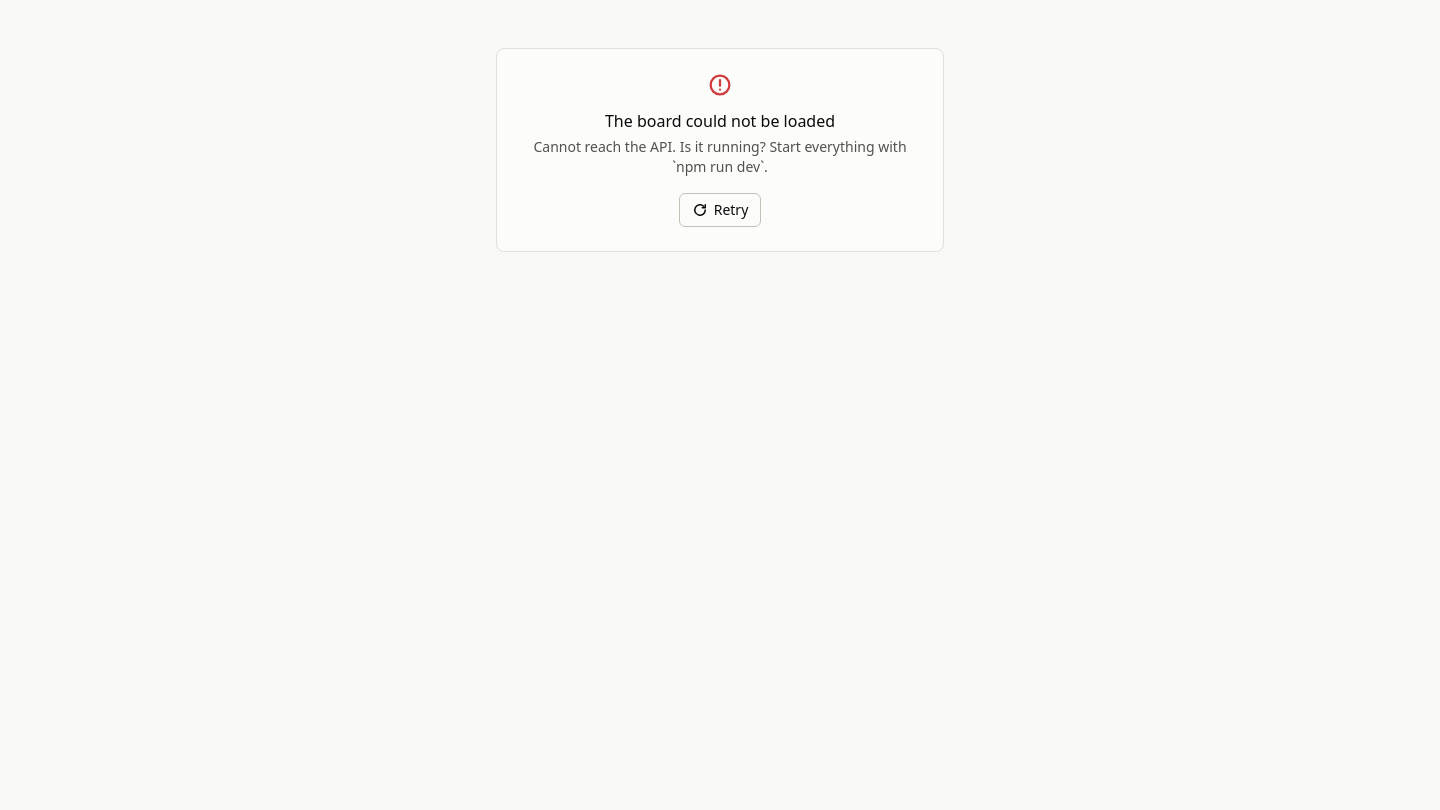
Test case: <TaskBoard /> › shows an error with Retry, and recovers
This screenshot has width=1440, height=810.
expect the message shows "The board could not be loaded": met, box [605,110,835,132]
expect the message shows "Cannot reach the API": met, box [533,137,906,176]
Click the button "Retry": (720, 210) [679,193,761,227]
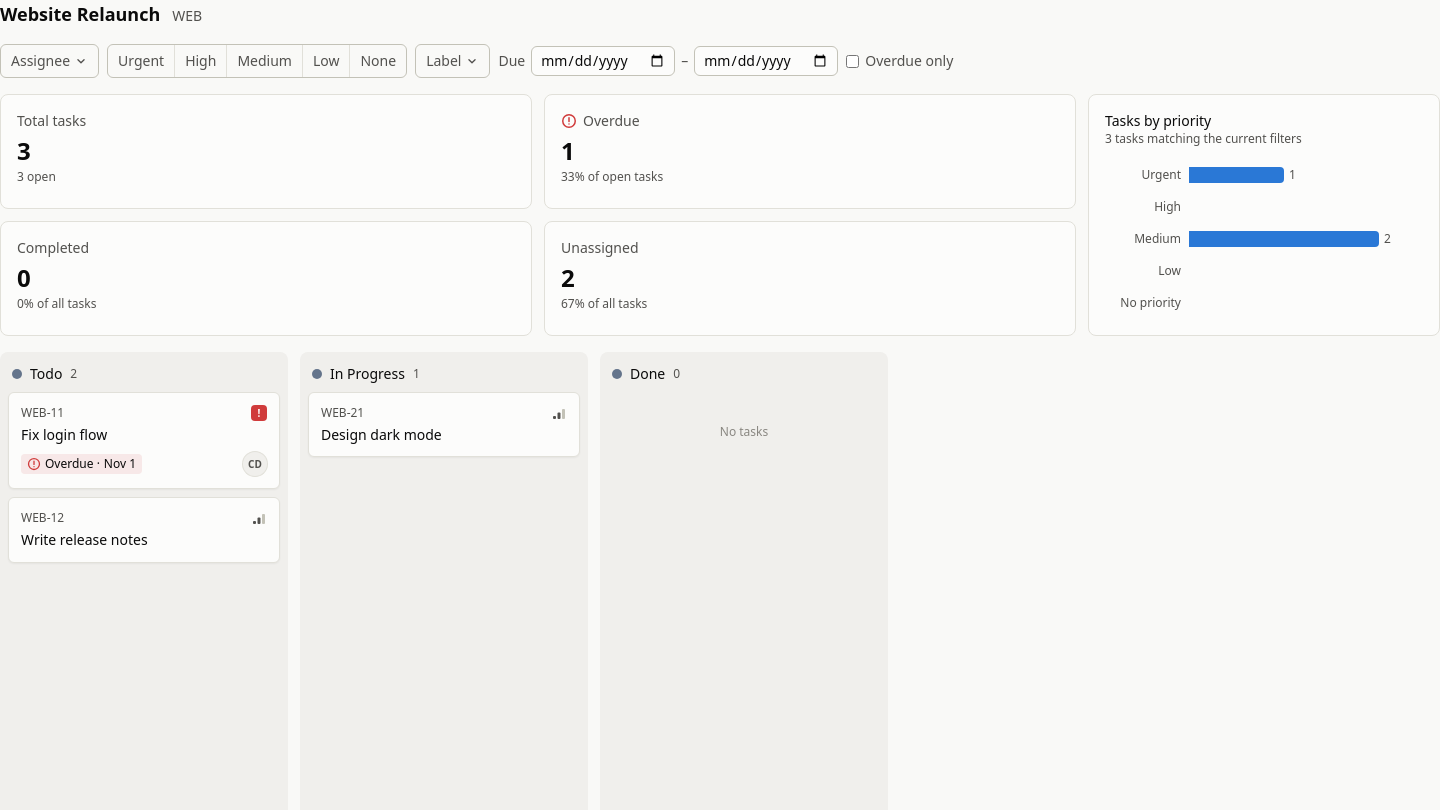
expect the heading "Website Relaunch" is shown: met, box [0,0,160,28]
